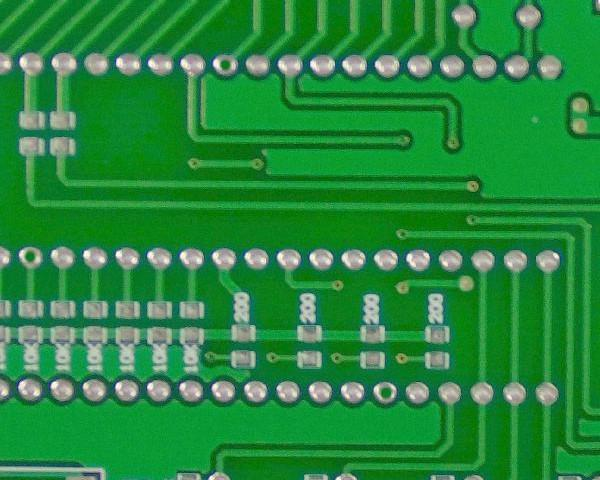missing hole: (370, 378, 402, 408), (16, 244, 48, 271), (209, 51, 240, 78)
